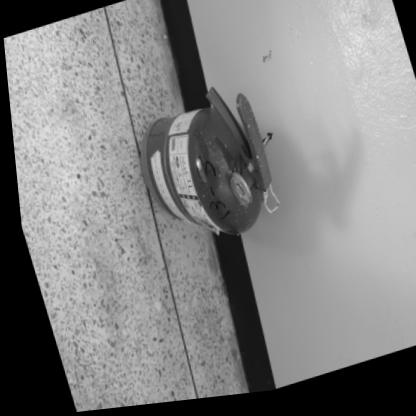FE: (118, 75, 283, 261)
